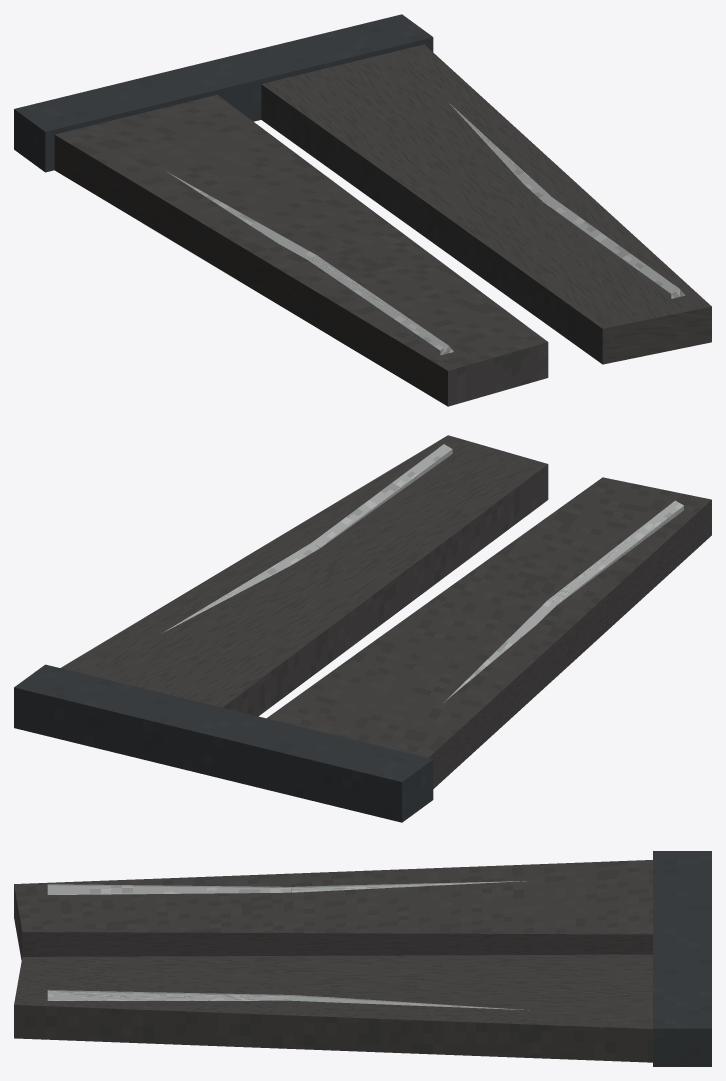
The model's file is trousers_eod.glb.
3 renders of one model, top to bottom at view 1: azimuth 30°, elevation 25°; view 2: azimuth 150°, elevation 25°; view 3: azimuth 270°, elevation 25°, orthographic. The views are drawn at different scales.
Parts seen in each view (by area): view 1: block_leg panel (×2), block_waist belt, block_leg closure 1 (×2), block_leg closure 0 (×2); view 2: block_leg panel (×2), block_waist belt, block_leg closure 1 (×2), block_leg closure 0 (×2); view 3: block_leg panel (×2), block_waist belt, block_leg closure 1 (×2), block_leg closure 0 (×2).
Boxes of the visible parts, x1,y1,x2,y2 form: block_leg panel (×2): (54,44,711,406); block_waist belt: (14,14,433,172); block_leg closure 1 (×2): (308,197,685,355); block_leg closure 0 (×2): (168,103,552,260); block_leg panel (×2): (60,435,711,788); block_waist belt: (14,664,433,822); block_leg closure 1 (×2): (312,444,683,605); block_leg closure 0 (×2): (161,542,556,702); block_leg panel (×2): (14,860,652,1062); block_waist belt: (653,851,711,1066); block_leg closure 1 (×2): (47,884,291,1000); block_leg closure 0 (×2): (291,881,528,1010).
Bounding box in the file's own units: 0.5209 × 0.0557 × 0.8646.
1 material, 1 textured.
